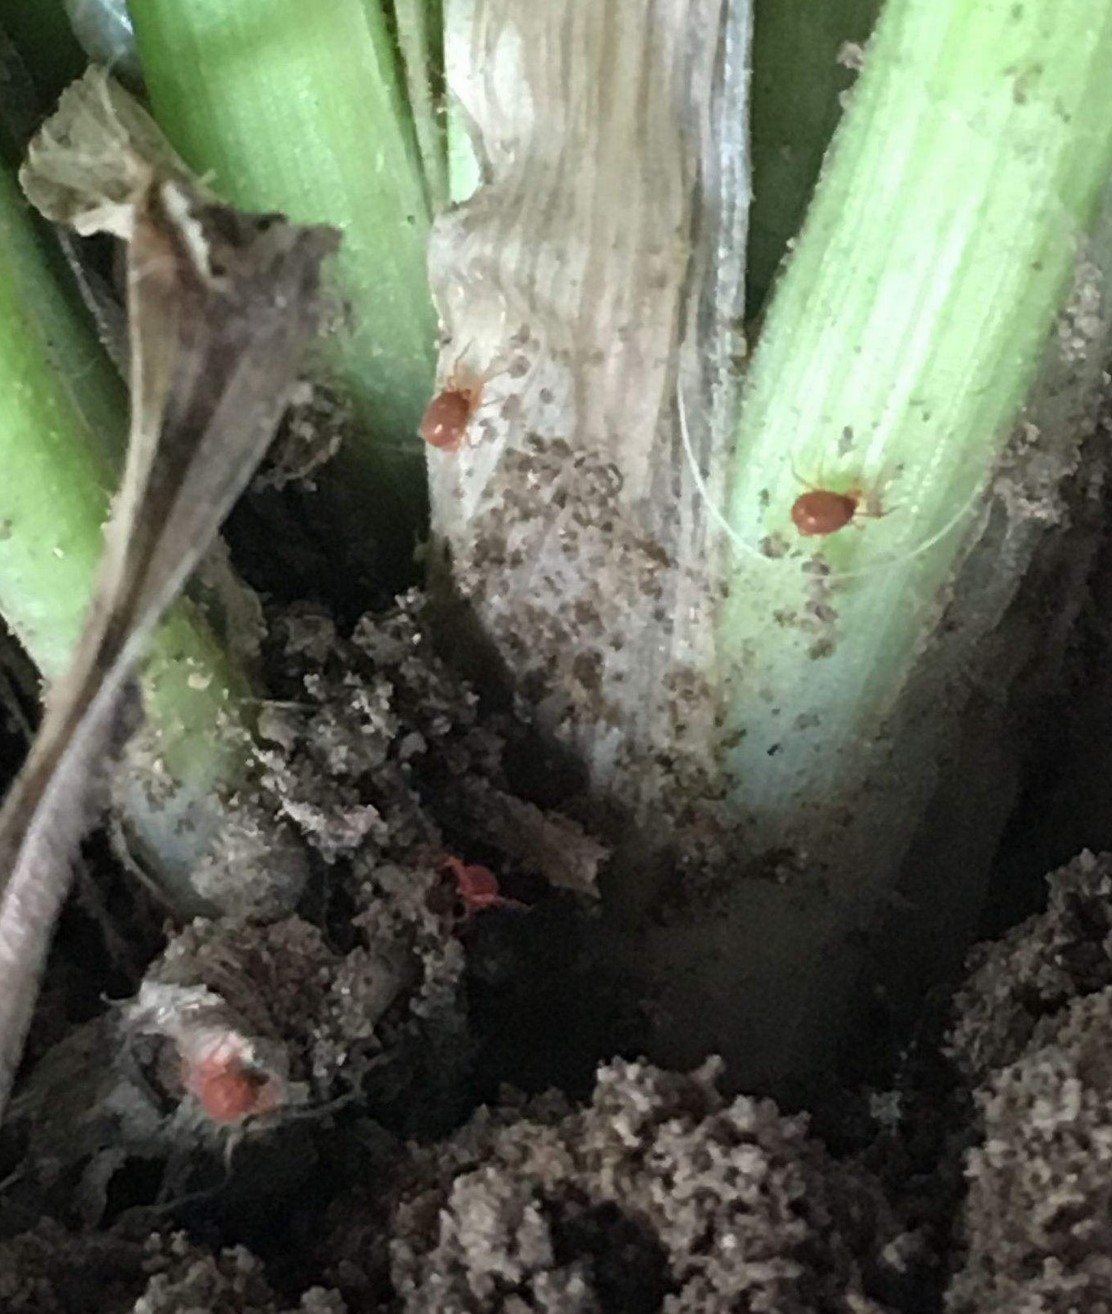Wheat Red Spider: (391, 324, 525, 487), (760, 456, 904, 553)
